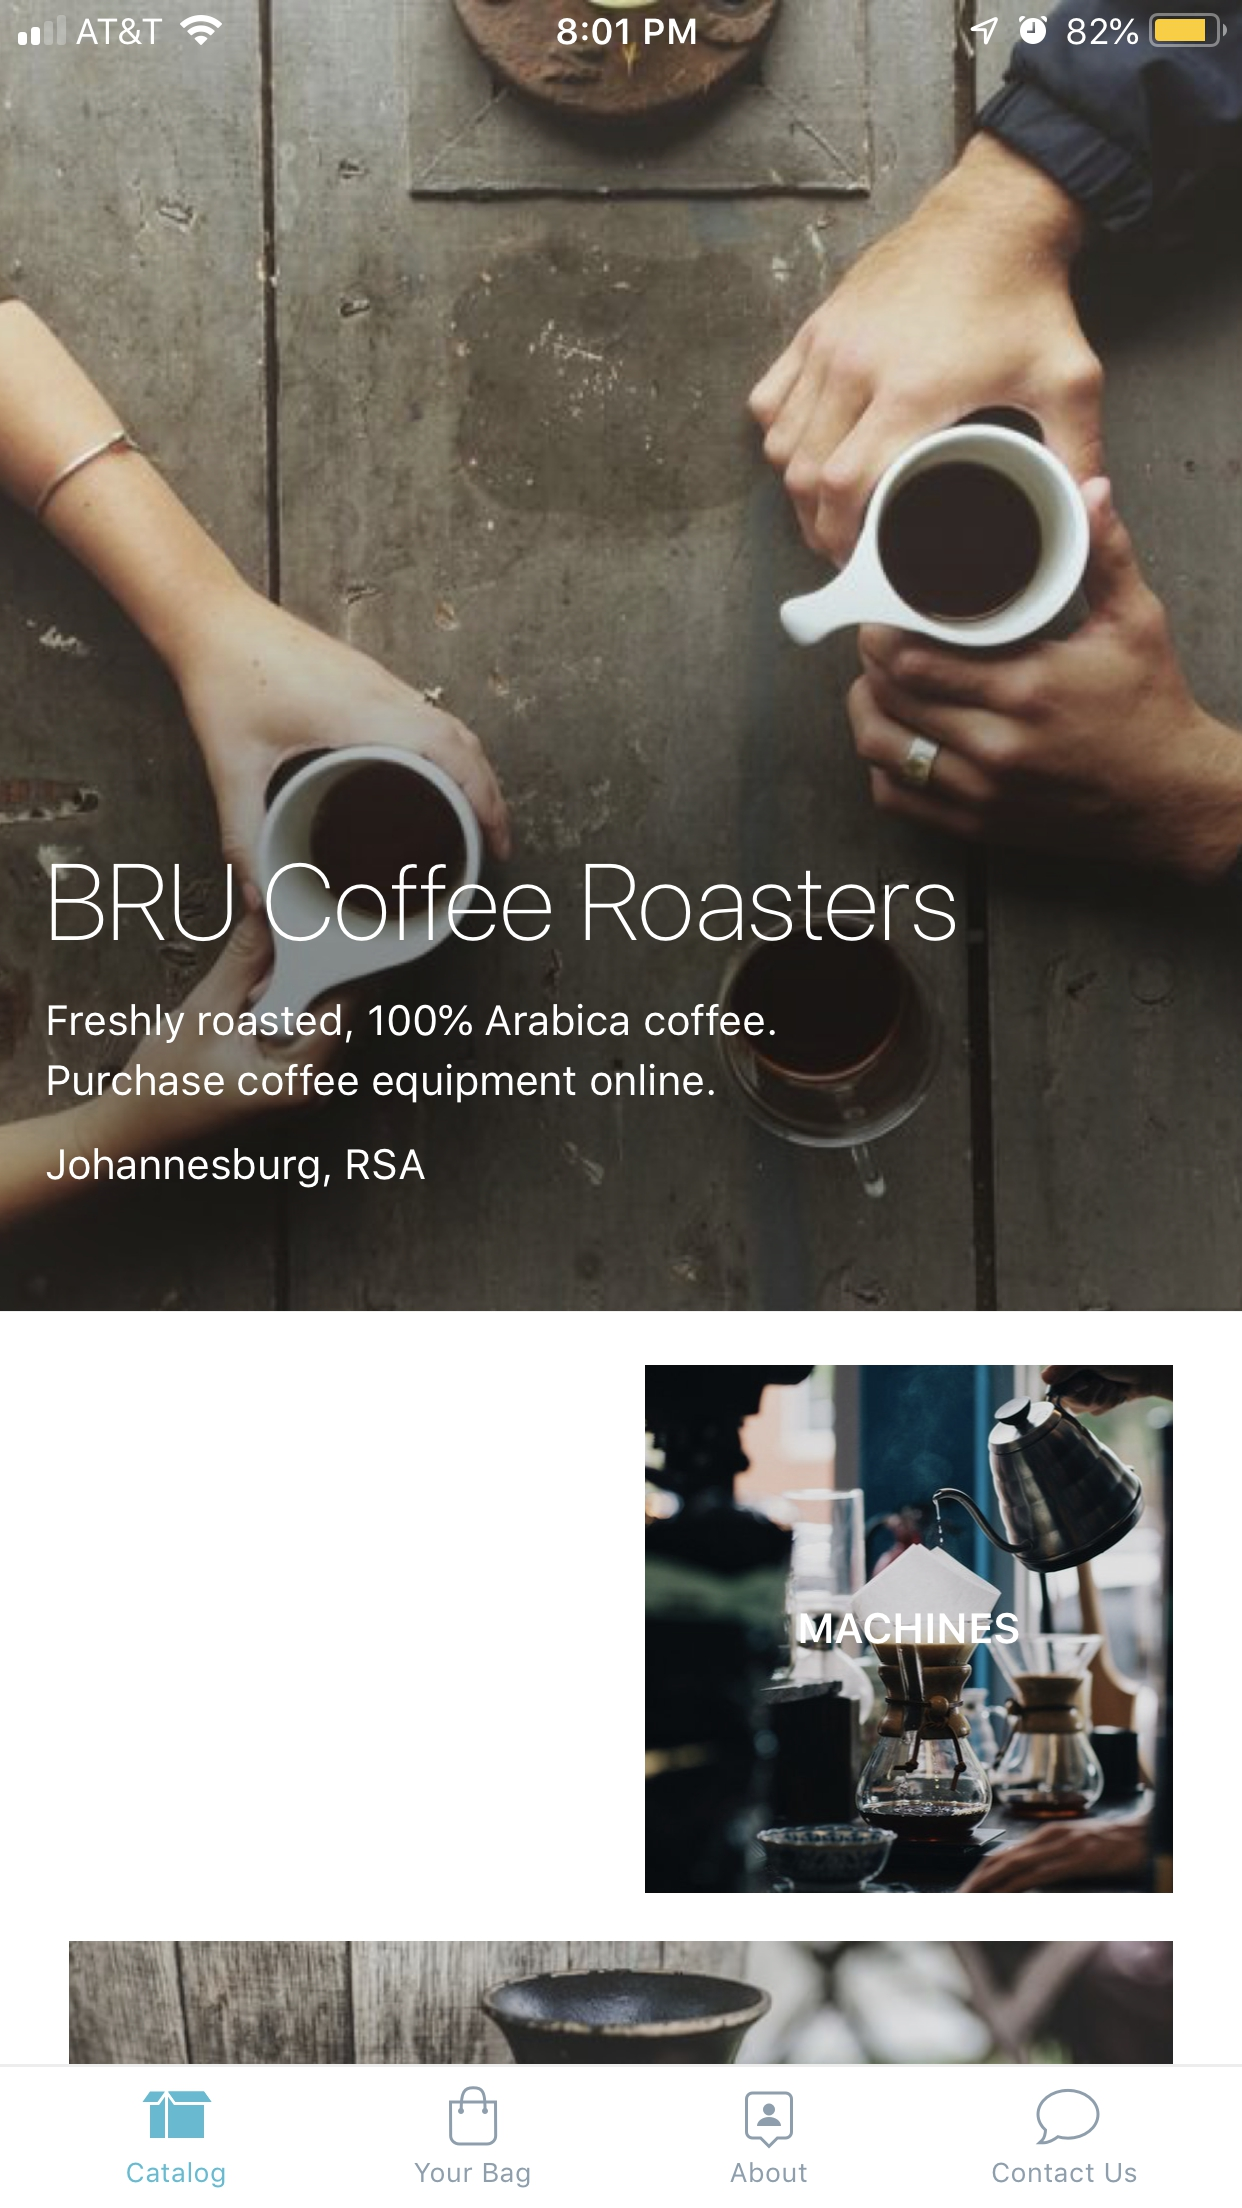Icon: (1034, 2088, 1099, 2146), (447, 2087, 497, 2147), (745, 2091, 795, 2149)
Image: (2, 50, 1242, 1312), (645, 1365, 1174, 1894), (70, 1940, 1174, 2064), (143, 2090, 212, 2138)
Text: (52, 861, 955, 943), (49, 1002, 776, 1102), (47, 1146, 428, 1189), (801, 1614, 1021, 1645), (992, 2163, 1137, 2184), (416, 2163, 531, 2188), (127, 2161, 226, 2188), (731, 2161, 808, 2184)
UpperTaskBar: (2, 2, 1242, 49)
